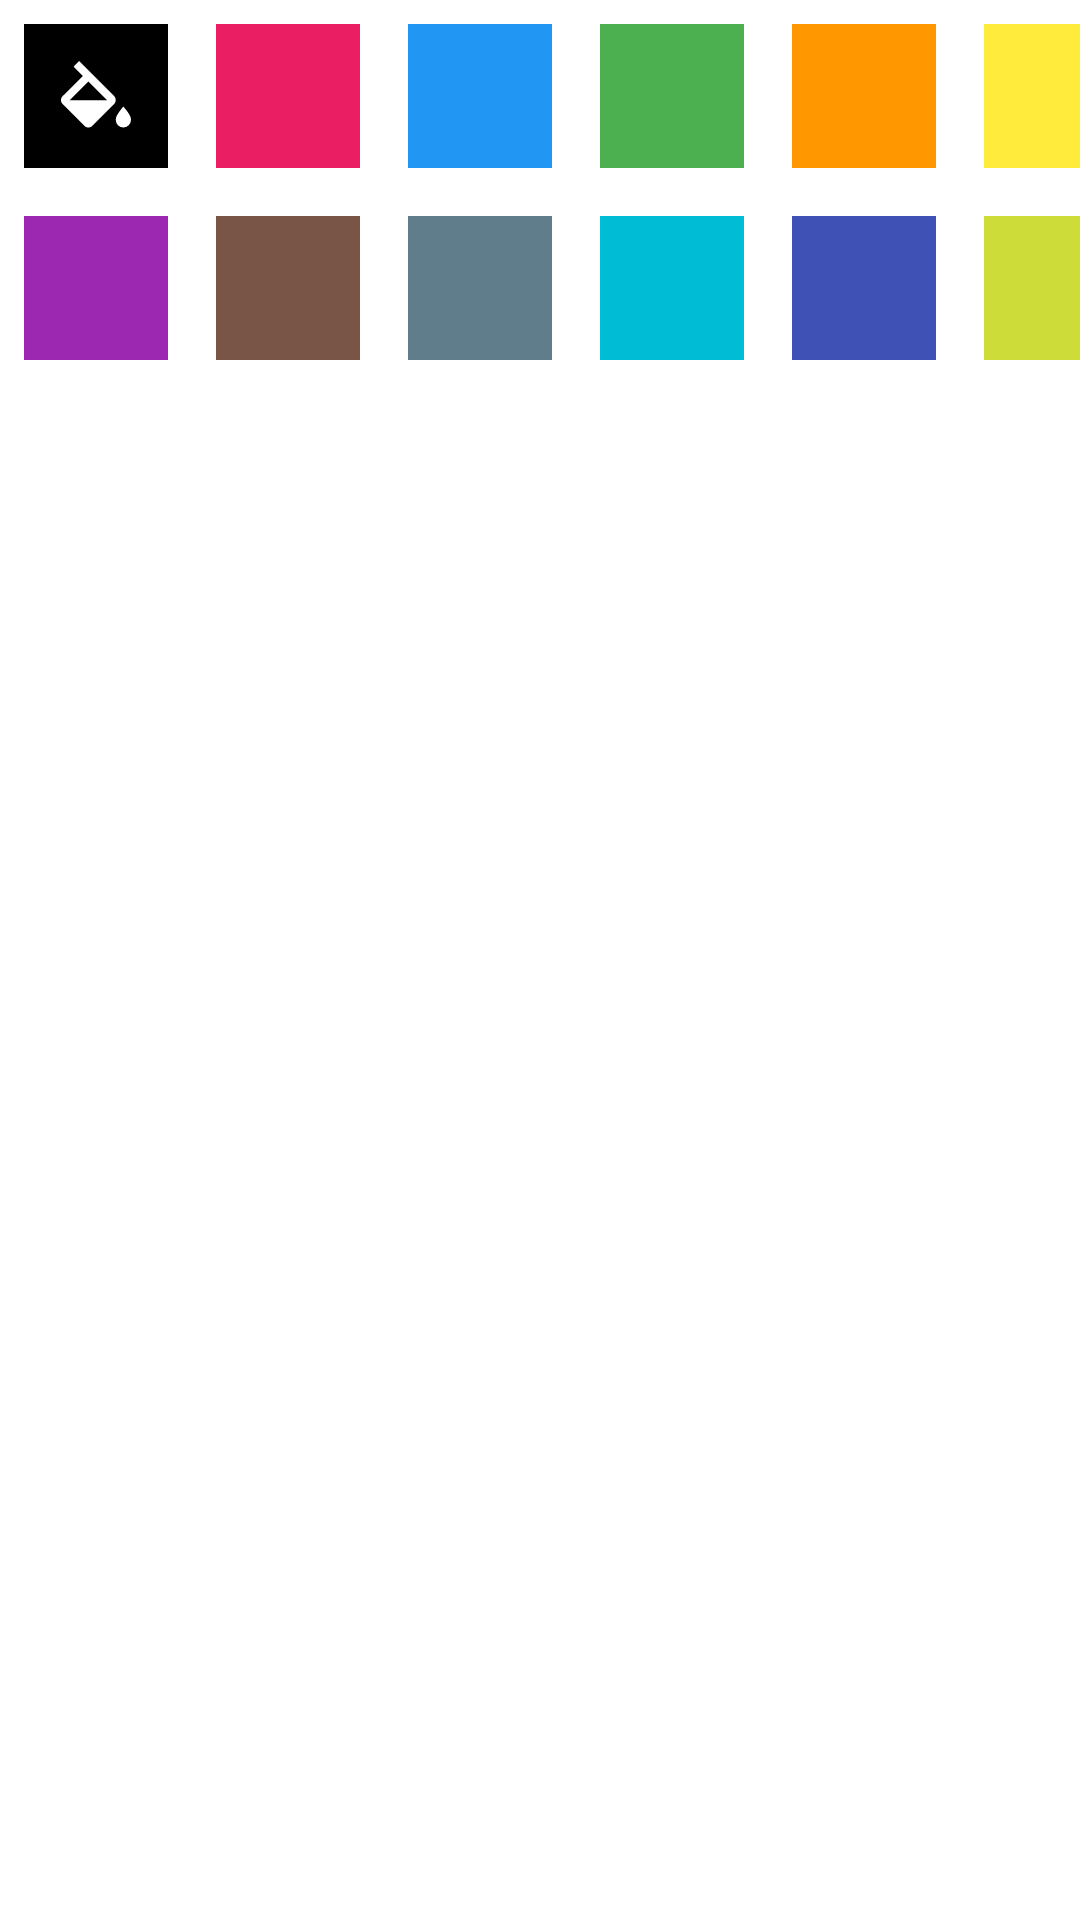

Screen size 1080px x 1920px. Icon name, then its box in pixels as [x1, y1, x2, y2]:
picker: [24, 24, 168, 168]
